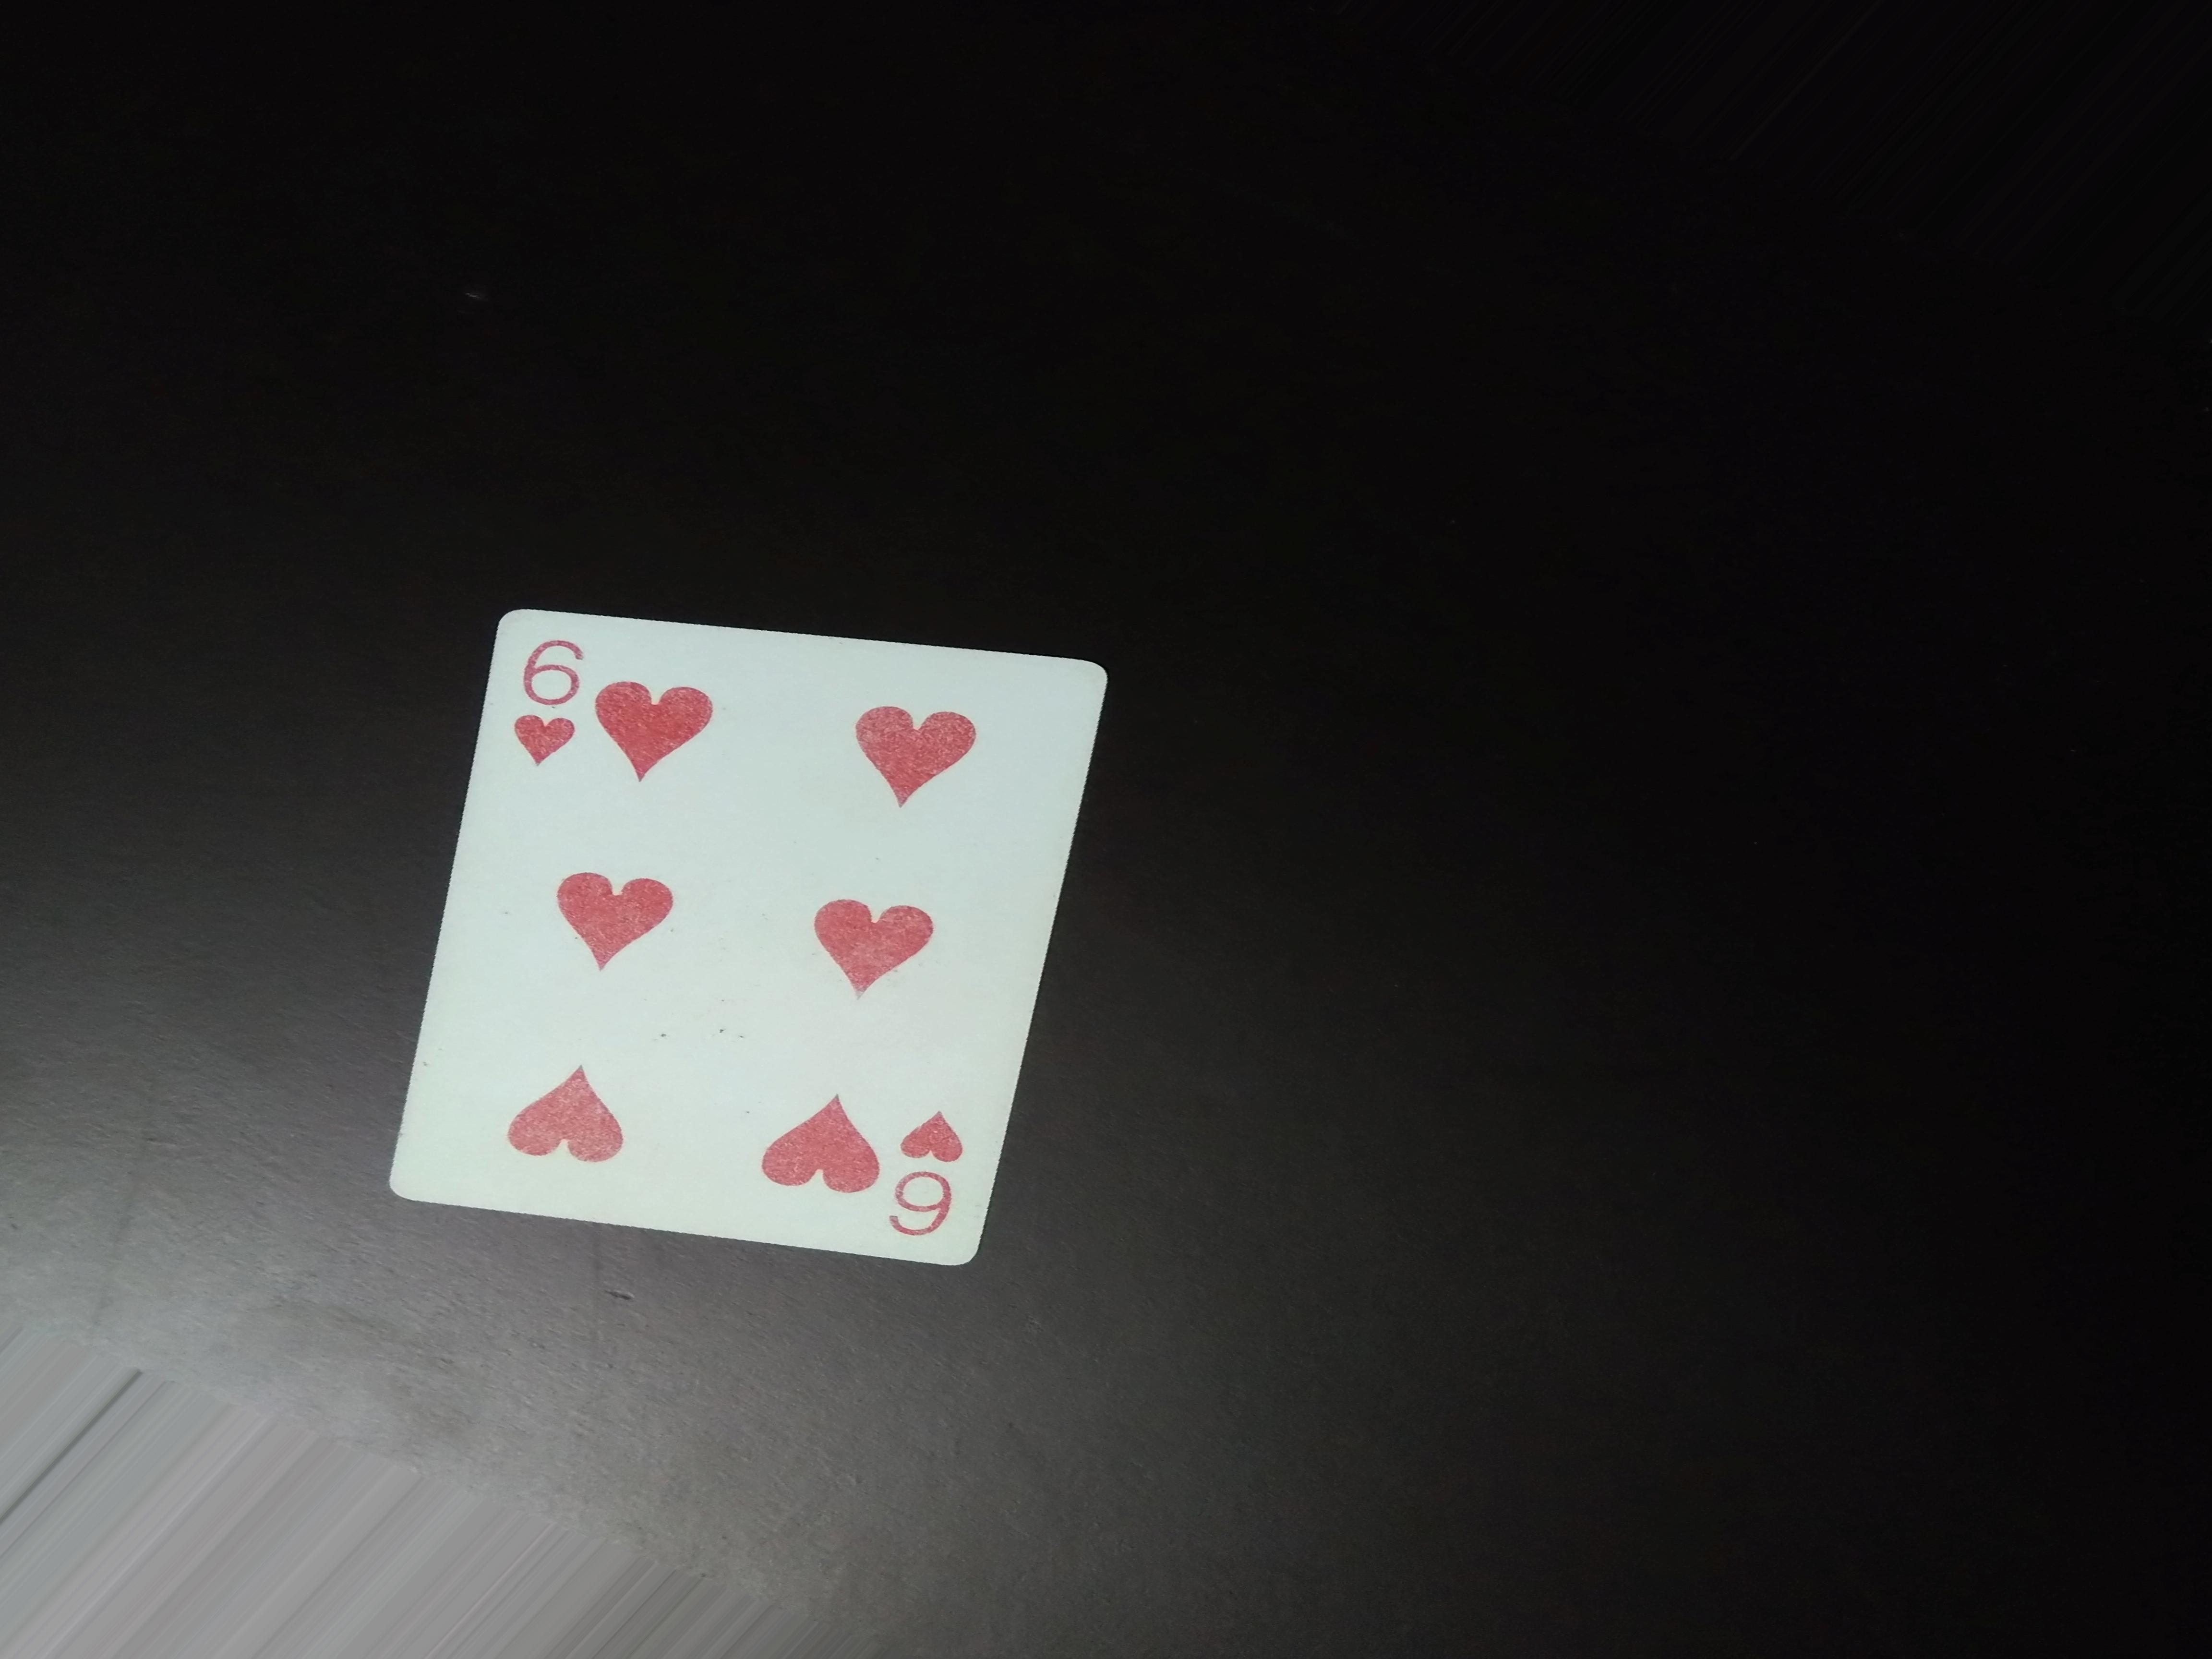6H: (507, 615, 603, 777)
